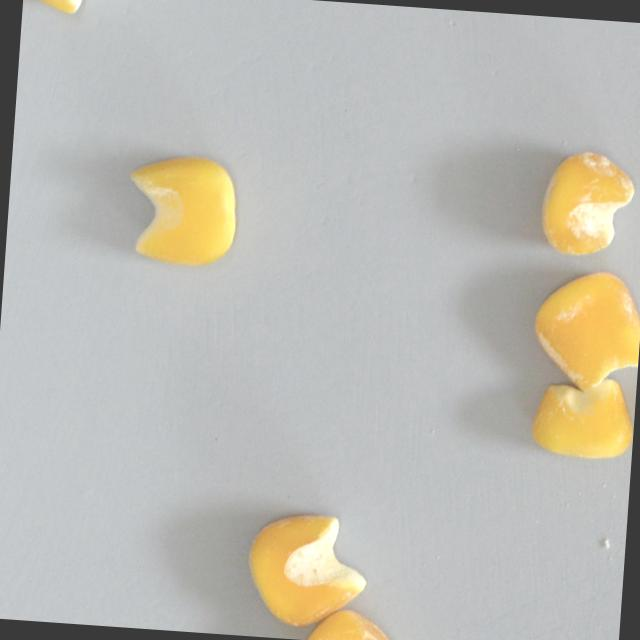dañado: (237, 502, 371, 630), (523, 261, 640, 396), (118, 147, 242, 272), (531, 143, 640, 265), (523, 367, 637, 469), (290, 602, 412, 640), (21, 0, 109, 19)
